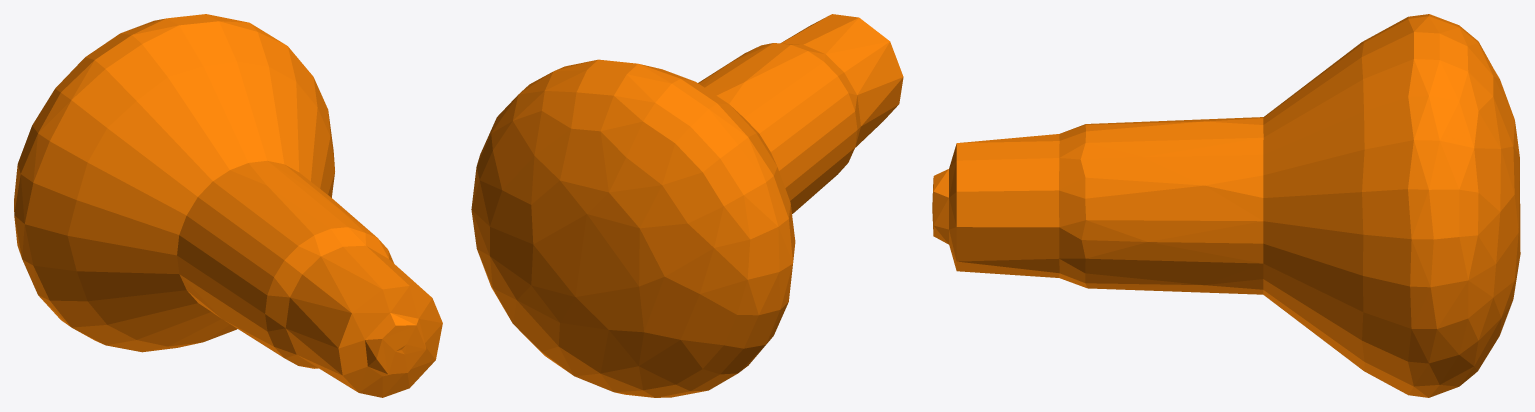
File: SpotLight.obj
3 views of the same model, side by side, from view 1: azimuth 30°, elevation 25°; view 2: azimuth 150°, elevation 25°; view 3: azimuth 270°, elevation 25° (orthographic). The views are drawn at different scales.
Visible parts, largest first — view 1: SpotLight_Blown_Reflector; view 2: SpotLight_Blown_Reflector; view 3: SpotLight_Blown_Reflector.
Boxes of the visible parts, x1=… form: SpotLight_Blown_Reflector: x1=14, y1=14, x2=442, y2=397; SpotLight_Blown_Reflector: x1=471, y1=14, x2=903, y2=397; SpotLight_Blown_Reflector: x1=932, y1=14, x2=1520, y2=397.
Bounding box in the file's own units: 0.412 × 0.4125 × 0.6302.
1 material, 1 textured.
